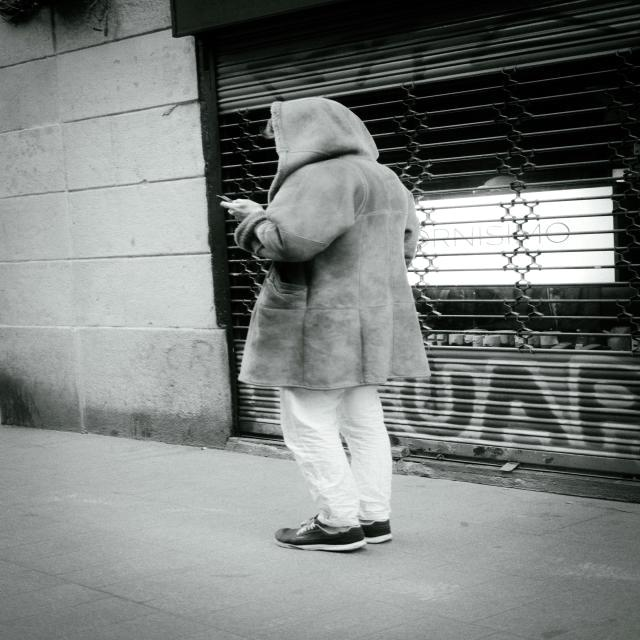no_hard_hat: (268, 97, 379, 161)
person: (221, 97, 429, 551)
